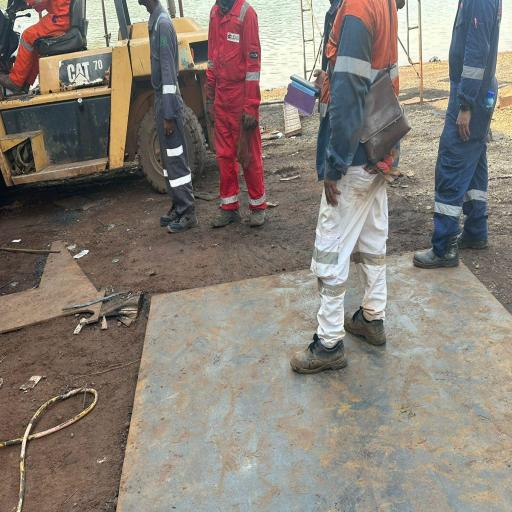safety_shoe: (288, 330, 348, 379), (342, 301, 383, 346), (407, 242, 459, 270), (161, 205, 201, 234), (451, 227, 491, 255), (207, 204, 246, 232), (0, 72, 25, 97), (244, 204, 269, 228), (162, 203, 182, 225)
